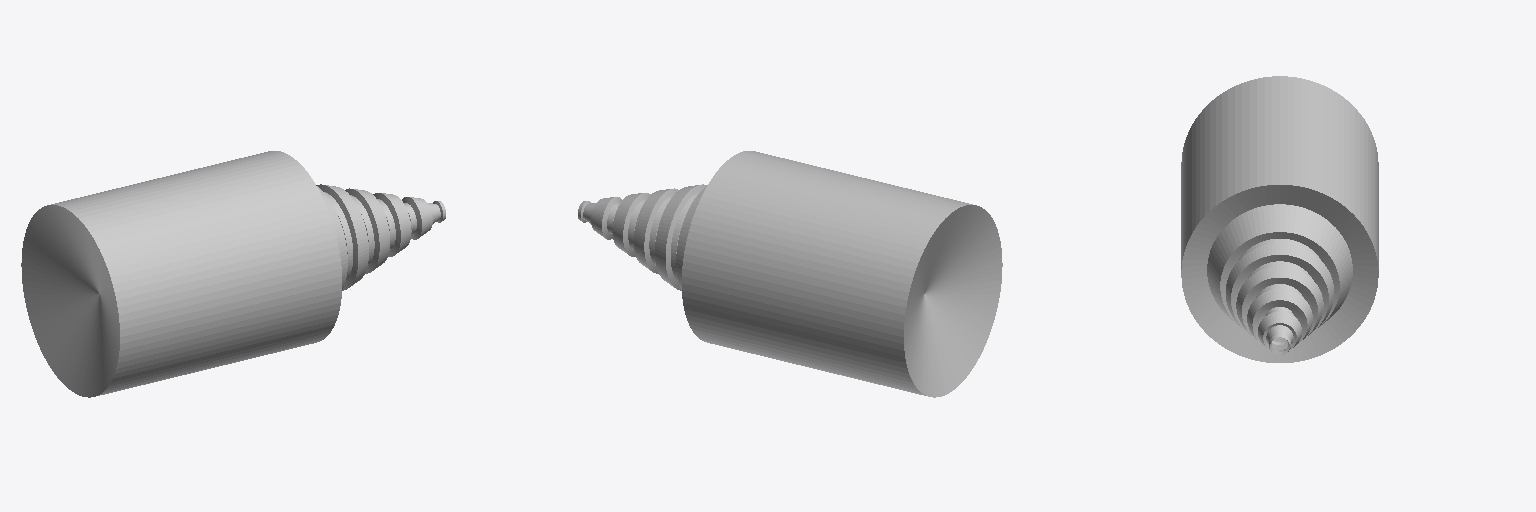
File: DrillThing00.obj
The picture shows the model from 3 angles: view 1: azimuth 30°, elevation 25°; view 2: azimuth 150°, elevation 25°; view 3: azimuth 270°, elevation 25°; orthographic projection.
Visible parts, largest first — view 1: Cylinder; view 2: Cylinder; view 3: Cylinder.
Part boxes in pixels (x1,y1,x2,y2): Cylinder: (21, 151, 445, 397); Cylinder: (578, 151, 1002, 397); Cylinder: (1181, 76, 1378, 362).
Bounding box in the file's own units: 4.29 × 1.98 × 1.98.